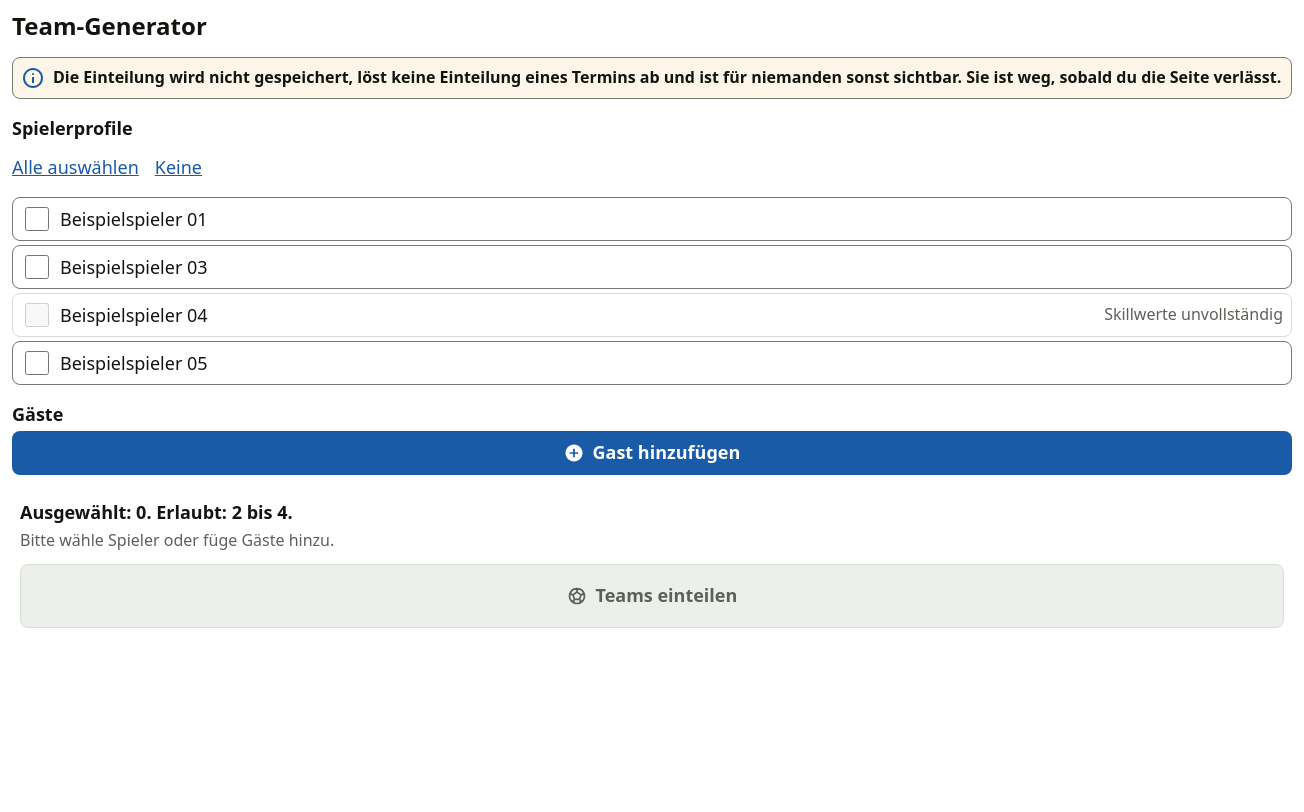
Scenario: AdminTeams – Auswahl › „Alle auswählen“ wählt alle wählbaren, nie das unvollständige; „Keine“ leert
Expected: the checkbox with test id "admin-teams-profil-1" is shown, [25, 207, 49, 231]
Expected: the text with test id "admin-teams-zaehler" shows "Erlaubt:", [152, 500, 293, 524]
Click the button with test id "admin-teams-alle": {"x": 75, "y": 167} [12, 145, 139, 189]
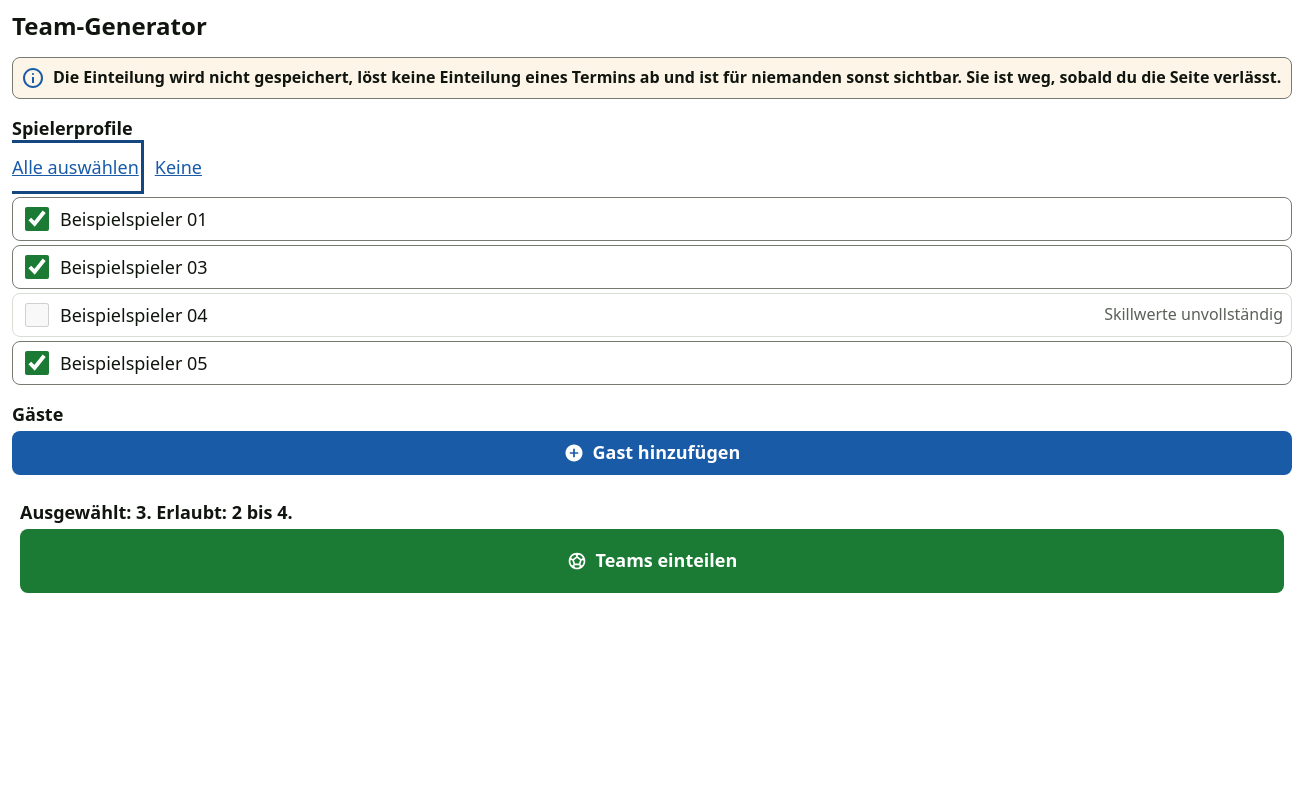
Expected: the checkbox with test id "admin-teams-profil-1" is checked, [25, 207, 49, 231]
Expected: the checkbox with test id "admin-teams-profil-3" is checked, [25, 255, 49, 279]
Expected: the checkbox with test id "admin-teams-profil-5" is checked, [25, 351, 49, 375]
Click the button with test id "admin-teams-keine": {"x": 178, "y": 167} [155, 145, 202, 189]
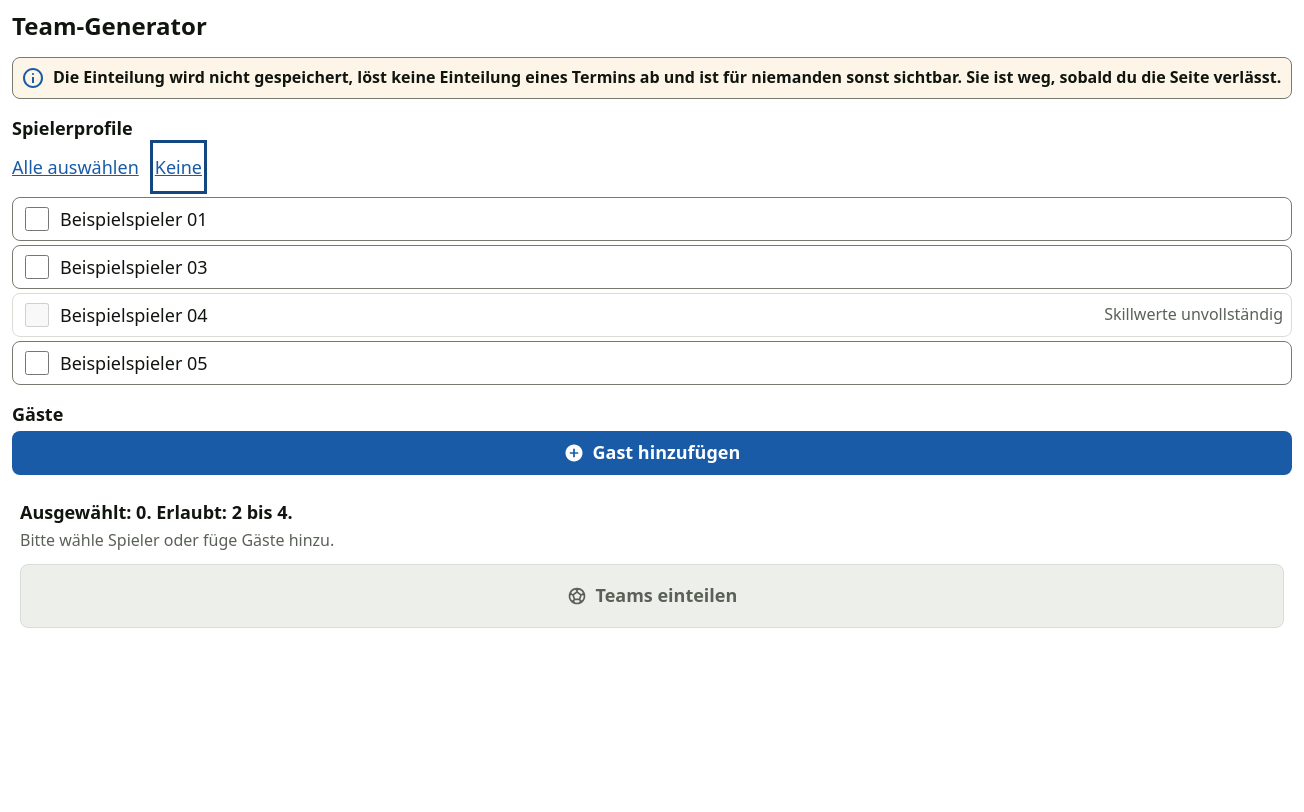
Expected: the text with test id "admin-teams-zaehler" shows "Ausgewählt: 0.", [20, 500, 293, 524]
